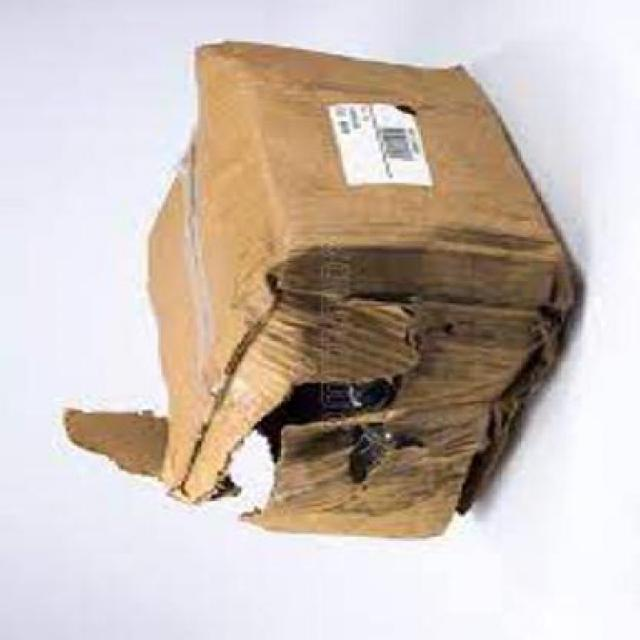Kardus kondisi rusak: (60, 40, 584, 538)
